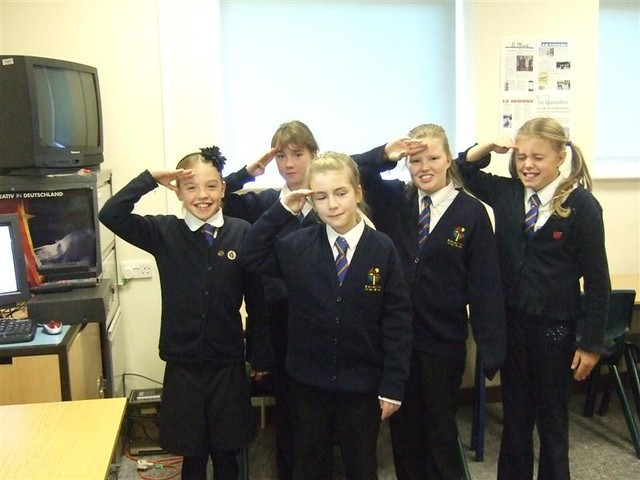face_no_mask: (307, 153, 359, 228), (512, 118, 562, 185), (176, 155, 226, 219), (402, 123, 448, 189), (270, 121, 316, 183)
